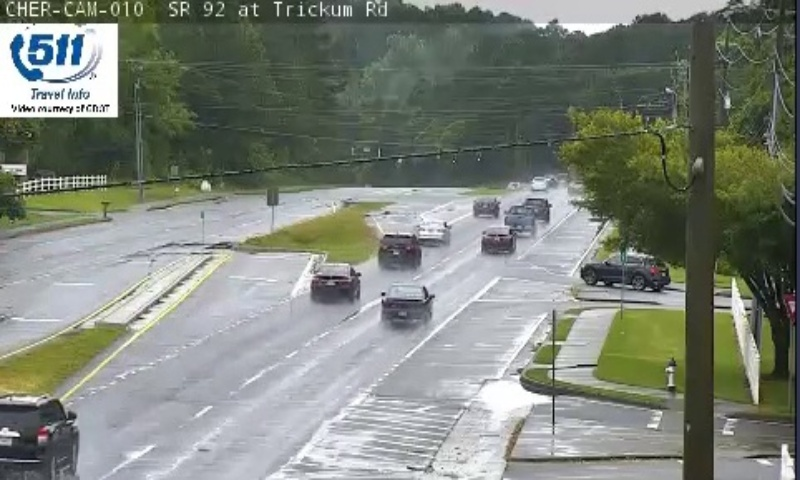car: (1, 395, 76, 470), (380, 285, 431, 321), (310, 263, 360, 299), (378, 232, 419, 268), (481, 225, 514, 252), (502, 207, 536, 232), (416, 218, 449, 243), (521, 196, 551, 223), (473, 196, 499, 216)
